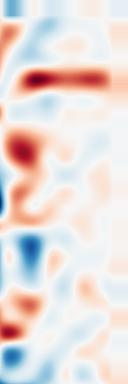filament: (0, 129, 53, 179)
